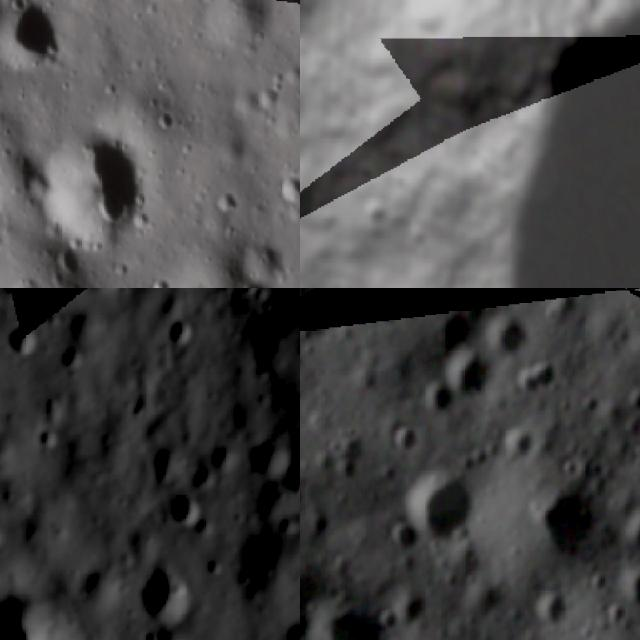crater: (39, 120, 152, 252), (400, 466, 480, 541), (0, 0, 73, 75), (517, 495, 594, 560), (0, 593, 97, 640), (135, 557, 201, 624), (442, 350, 496, 400), (243, 428, 292, 482), (397, 0, 458, 43), (484, 310, 533, 362), (164, 490, 206, 531), (304, 203, 344, 246), (386, 515, 425, 555), (420, 381, 459, 421), (6, 319, 40, 359), (538, 588, 573, 624), (35, 418, 66, 457), (163, 314, 199, 347), (388, 424, 422, 457), (141, 616, 187, 640), (277, 166, 300, 212), (273, 454, 300, 491), (55, 342, 86, 373), (350, 152, 380, 183), (431, 261, 463, 288), (621, 508, 640, 550), (373, 608, 402, 634), (325, 156, 351, 182), (384, 166, 409, 192), (624, 569, 640, 609), (307, 187, 331, 211), (579, 395, 603, 417), (472, 148, 494, 170), (300, 288, 324, 307), (300, 197, 316, 220)
